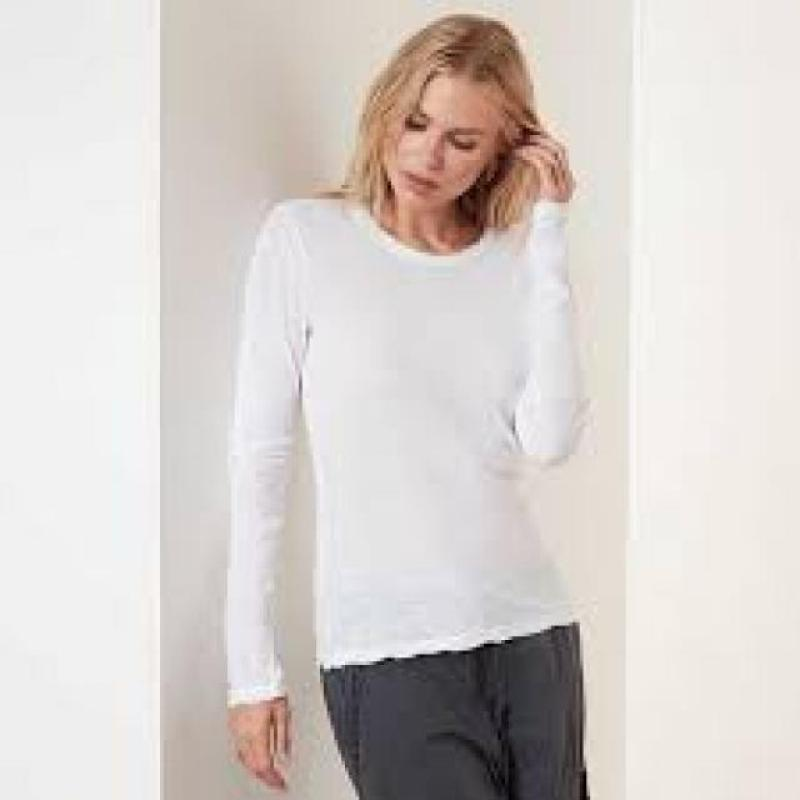long sleeve shirt: (221, 191, 592, 704)
